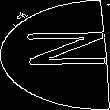N_E: (5, 34, 105, 76)
